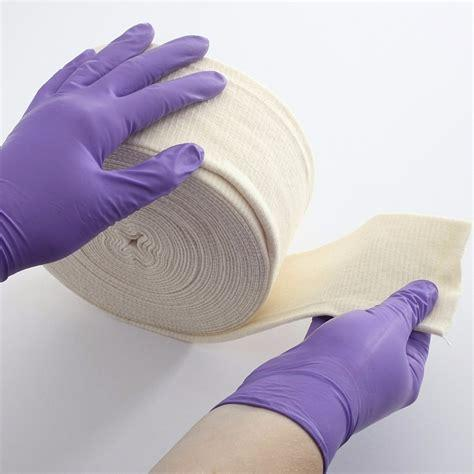gauze: (13, 41, 474, 408)
gloves: (0, 13, 232, 283), (221, 262, 467, 467)
